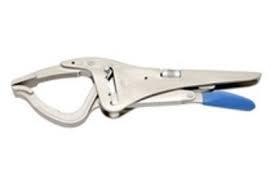pliers: (9, 55, 261, 127)
